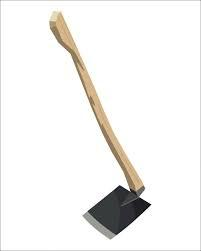HOUE: (47, 4, 195, 251)
